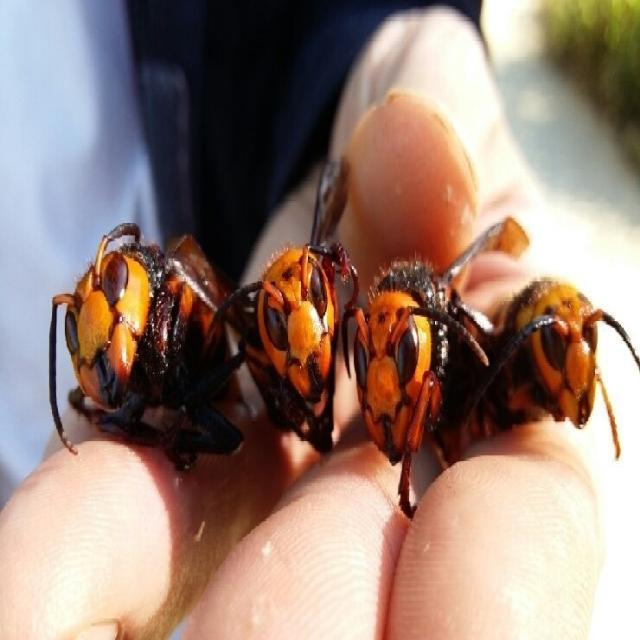Wasp: (43, 220, 235, 469), (360, 243, 483, 511), (500, 246, 635, 458), (249, 235, 346, 448)
